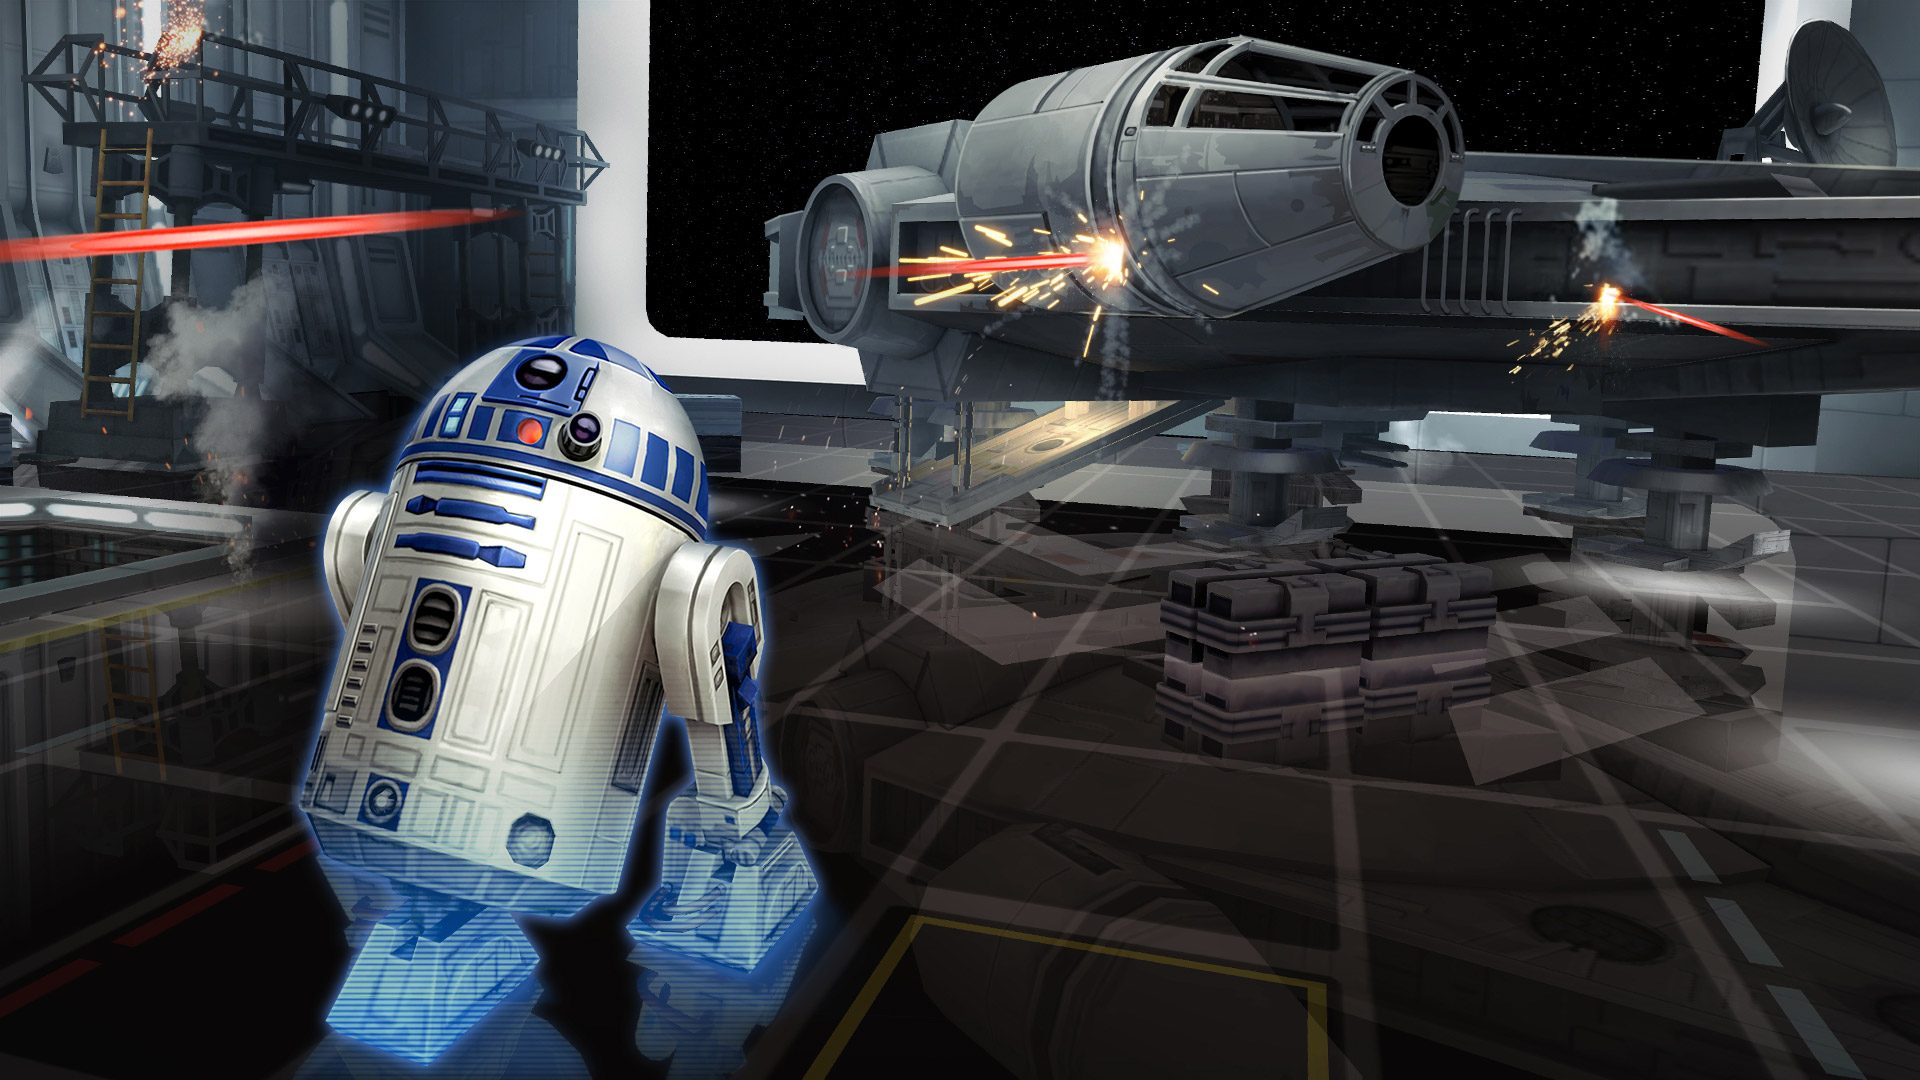r2d2: (316, 339, 820, 1046)
